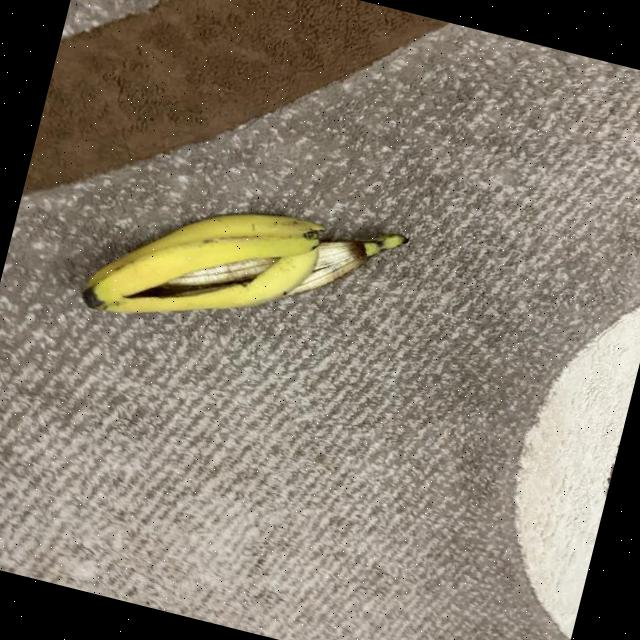banana-peel: (78, 160, 410, 380)
